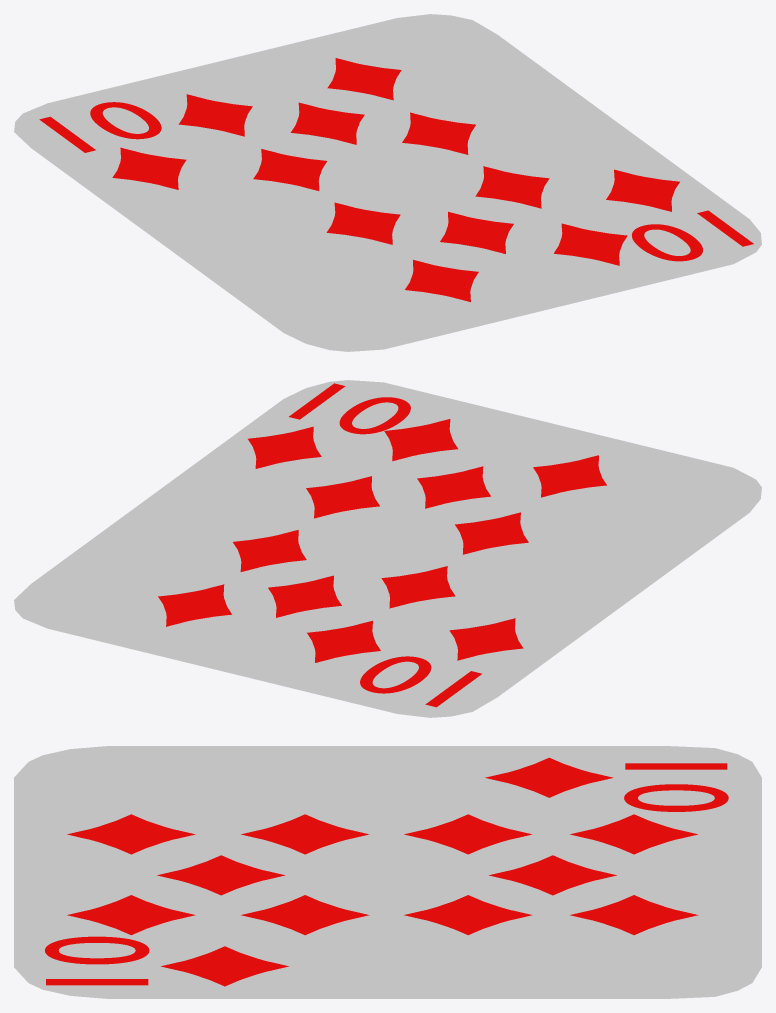
3 views of the same model, one above another, from view 1: azimuth 30°, elevation 25°; view 2: azimuth 150°, elevation 25°; view 3: azimuth 270°, elevation 25° (orthographic). The views are drawn at different scales.
Parts seen in each view (by area): view 1: 10ofDiamonds, Plane.074_Materia, Plane.075_Materia, Plane.069_Materia, Plane.066_Materia, Plane.070_Materia, Plane.068_Materia, Plane.072_Materia, Plane.071_Materia, Plane.065_Materia, Plane.073_Materia, Plane.067_Materia (+3 smaller); view 2: 10ofDiamonds, Plane.071_Materia, Plane.074_Materia, Plane.070_Materia, Plane.066_Materia, Plane.072_Materia, Plane.075_Materia, Plane.076_Materia, Plane.068_Materia, Plane.073_Materia, Plane.065_Materia, Plane.067_Materia (+3 smaller); view 3: 10ofDiamonds, Plane.066_Materia, Plane.071_Materia, Plane.068_Materia, Plane.065_Materia, Plane.067_Materia, Plane.070_Materia, Plane.069_Materia, Plane.074_Materia, Plane.072_Materia, Plane.076_Materia, Plane.073_Materia (+3 smaller).
Boxes of the visible parts, x1,y1,x2,y2 form: 10ofDiamonds: [14, 14, 761, 351]; Plane.074_Materia: [112, 147, 186, 189]; Plane.075_Materia: [327, 58, 401, 100]; Plane.069_Materia: [475, 166, 549, 208]; Plane.066_Materia: [554, 223, 627, 265]; Plane.070_Materia: [402, 112, 475, 154]; Plane.068_Materia: [326, 202, 400, 244]; Plane.072_Materia: [178, 94, 252, 136]; Plane.071_Materia: [253, 149, 327, 190]; Plane.065_Materia: [290, 102, 364, 144]; Plane.073_Materia: [606, 169, 679, 211]; Plane.067_Materia: [405, 260, 478, 301]; 10ofDiamonds: [14, 380, 761, 717]; Plane.071_Materia: [381, 566, 455, 608]; Plane.074_Materia: [449, 618, 523, 660]; Plane.070_Materia: [233, 530, 306, 571]; Plane.066_Materia: [384, 419, 457, 461]; Plane.072_Materia: [307, 620, 380, 662]; Plane.075_Materia: [158, 584, 231, 626]; Plane.076_Materia: [417, 466, 490, 508]; Plane.068_Materia: [455, 512, 528, 554]; Plane.073_Materia: [248, 426, 321, 468]; Plane.065_Materia: [268, 575, 341, 617]; Plane.067_Materia: [533, 455, 606, 497]; 10ofDiamonds: [14, 746, 761, 998]; Plane.066_Materia: [67, 895, 195, 935]; Plane.071_Materia: [404, 814, 532, 854]; Plane.068_Materia: [241, 814, 369, 854]; Plane.065_Materia: [489, 855, 616, 895]; Plane.067_Materia: [67, 814, 195, 854]; Plane.070_Materia: [404, 895, 532, 935]; Plane.069_Materia: [241, 895, 369, 935]; Plane.074_Materia: [485, 757, 613, 797]; Plane.072_Materia: [570, 814, 697, 854]; Plane.076_Materia: [157, 855, 284, 895]; Plane.073_Materia: [161, 946, 288, 986].
Size of the model in its own units: 1.6 by 0.00974 by 2.
